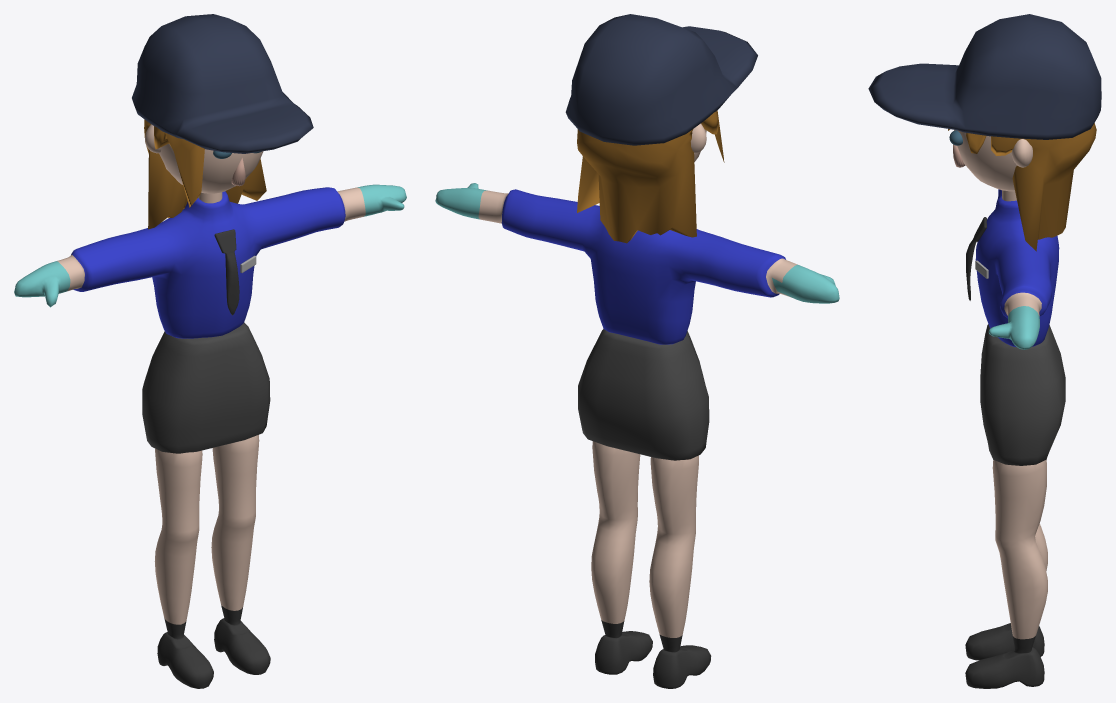
Rendered from TSA #2.fbx.
The picture shows the model from 3 angles, left to right: view 1: azimuth 30°, elevation 25°; view 2: azimuth 150°, elevation 25°; view 3: azimuth 270°, elevation 25°; orthographic projection. The views are drawn at different scales.
Parts seen in each view (by area): view 1: pCube39, pCube43, pCube41, polySurface45; view 2: pCube39, pCube43, pCube41, polySurface45; view 3: pCube39, pCube41, pCube43, polySurface45.
Part boxes in pixels (x1=…): pCube39: x1=142, y1=322, x2=270, y2=688; pCube43: x1=14, y1=184, x2=406, y2=338; pCube41: x1=132, y1=14, x2=313, y2=153; polySurface45: x1=144, y1=119, x2=266, y2=229; pCube39: x1=578, y1=329, x2=711, y2=688; pCube43: x1=435, y1=183, x2=839, y2=344; pCube41: x1=565, y1=14, x2=757, y2=145; polySurface45: x1=577, y1=110, x2=724, y2=243; pCube39: x1=965, y1=324, x2=1065, y2=688; pCube41: x1=868, y1=14, x2=1101, y2=139; pCube43: x1=966, y1=189, x2=1059, y2=349; polySurface45: x1=948, y1=123, x2=1096, y2=251.
Size of the model in its own units: 25.38 by 39.5 by 12.89.
